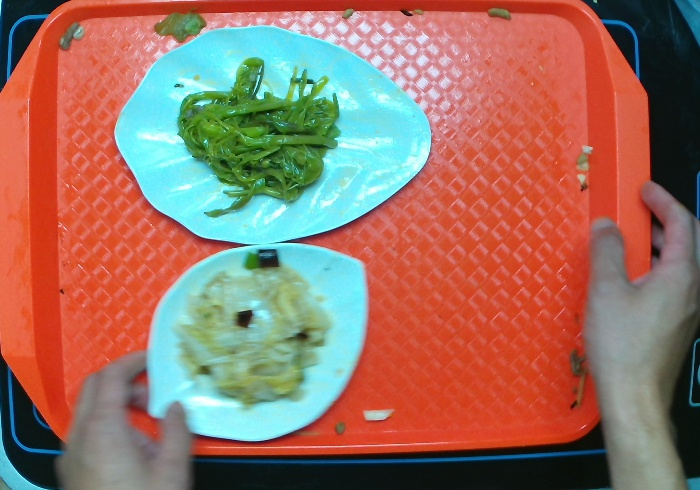RJxy-Bai_Ye_Pan: (109, 22, 436, 242)
RJxy-Da_Du_Pan: (138, 243, 374, 438)
